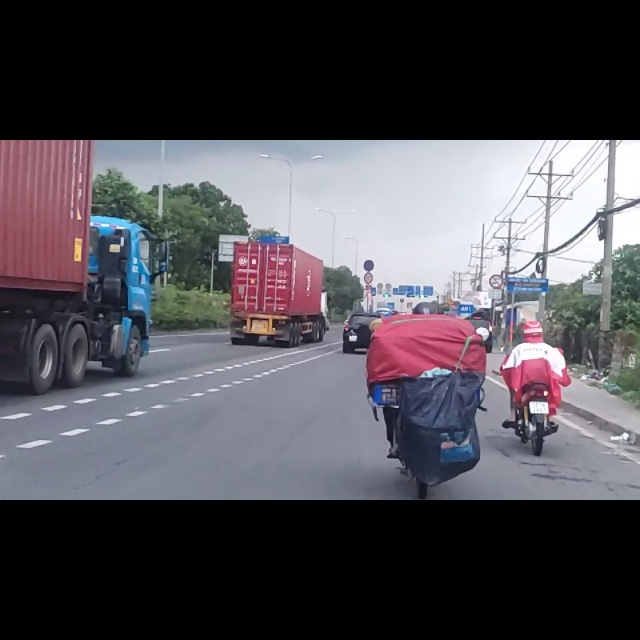bien_cam: (489, 239, 504, 264), (363, 212, 375, 233)
